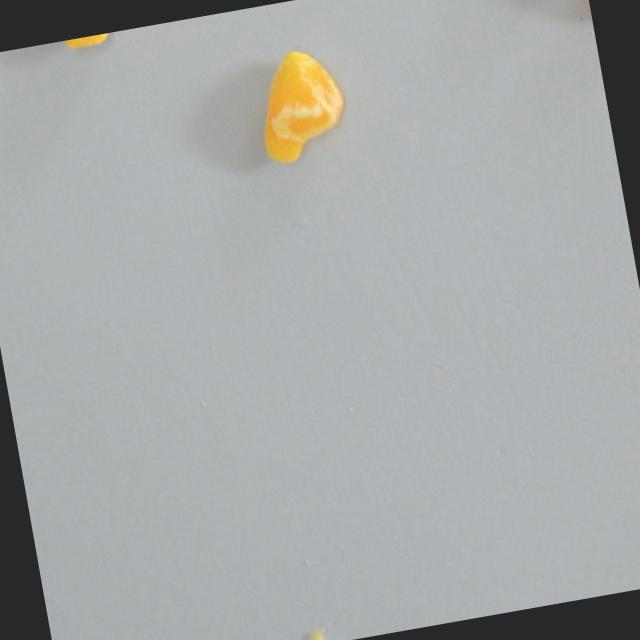pelicula: (243, 42, 353, 170), (52, 28, 133, 52)
